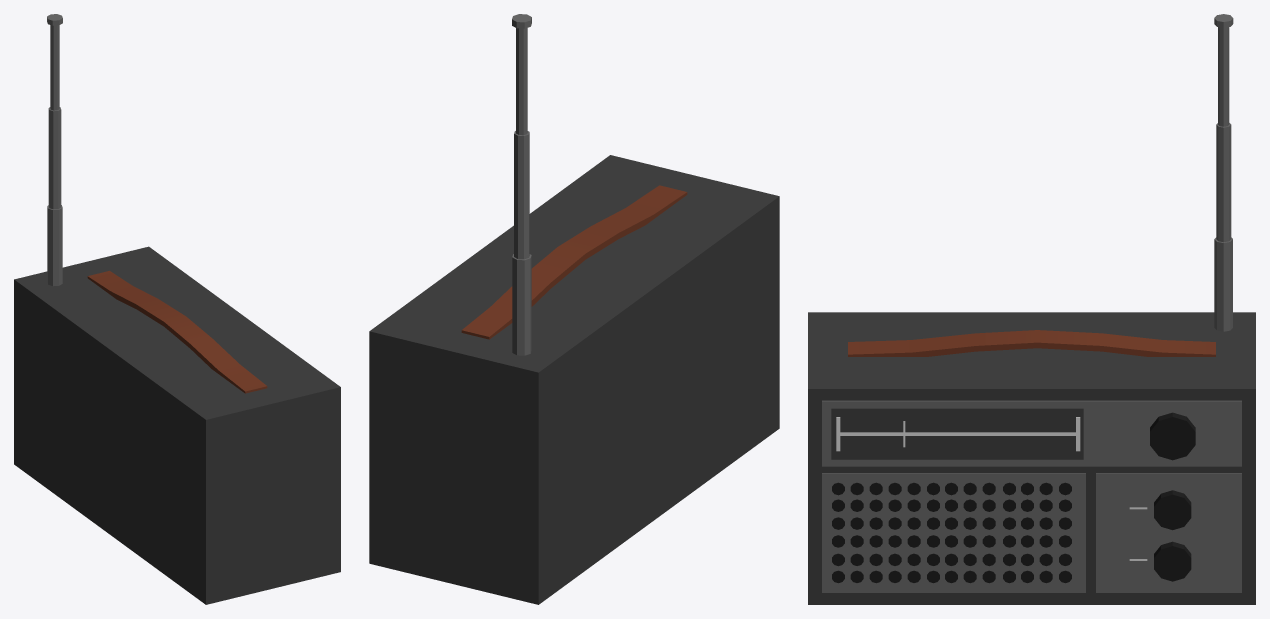
File: Radio.fbx
3 views of the same model, side by side, from view 1: azimuth 30°, elevation 25°; view 2: azimuth 150°, elevation 25°; view 3: azimuth 270°, elevation 25° (orthographic). The views are drawn at different scales.
Visible parts, largest first — view 1: pCube14; view 2: pCube14; view 3: pCube14.
Part boxes in pixels (x1,y1,x2,y2): pCube14: [14, 14, 340, 604]; pCube14: [369, 14, 779, 604]; pCube14: [808, 14, 1255, 604].
Size of the model in its own units: 1.07 by 3.19 by 2.47.
